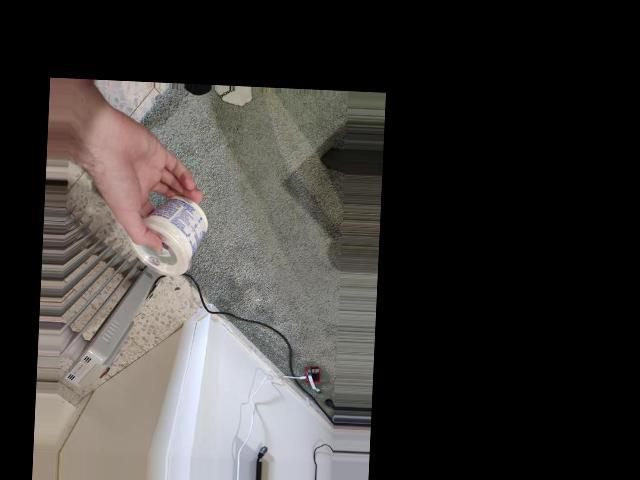cotage: (132, 189, 210, 274)
